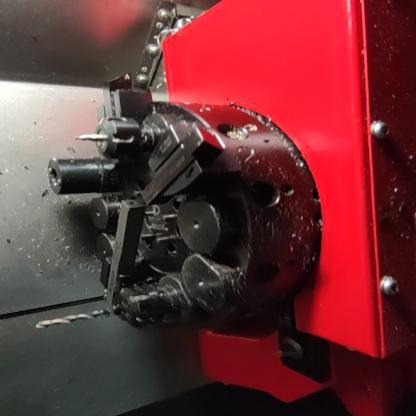bit: (136, 117, 237, 209), (91, 191, 152, 325), (87, 64, 162, 130)
